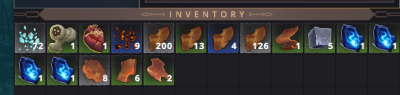chaos ember: (112, 23, 141, 52)
durable hide: (176, 23, 205, 53), (144, 23, 173, 52), (241, 23, 270, 52), (208, 24, 238, 52)
ethereal dust: (15, 24, 44, 52)
flexible hide: (273, 23, 302, 52)
granite stone: (305, 24, 335, 52)
soft hide: (79, 55, 108, 84)
strong hide: (112, 54, 140, 83)
tough hide: (145, 56, 173, 85)
